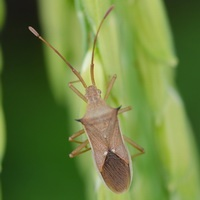insect: (28, 6, 143, 192)
